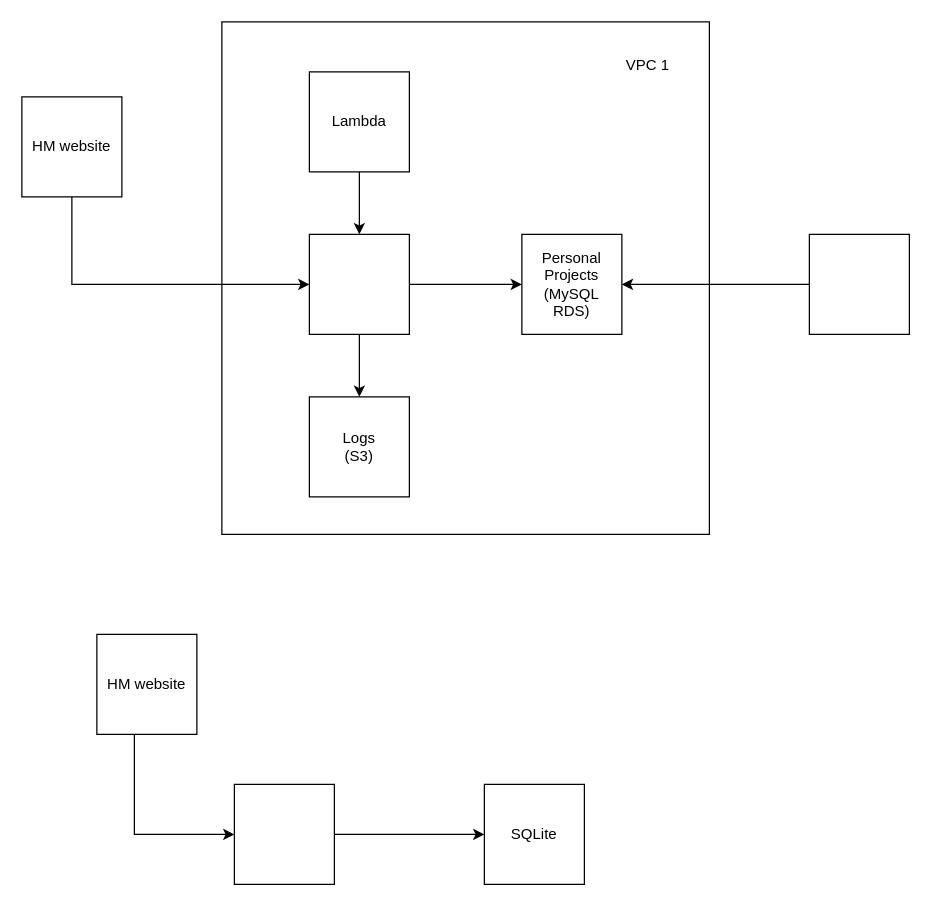
Image size: 931x906. Some labels were removed from this diagram. The shapes that lost their labels are listed below. From the top down, each one's box as (x1, y1, x2, y2) in pixels, then its label:
(308, 233, 409, 334): Webscrap.py (EC2)
(808, 233, 909, 334): Dashboard (Metabase)
(233, 783, 334, 884): Webscrap.py
